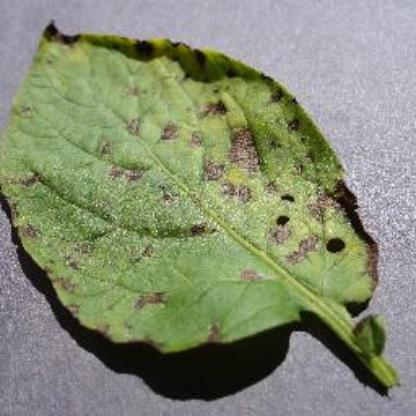Early-Blight: (5, 16, 405, 396)
